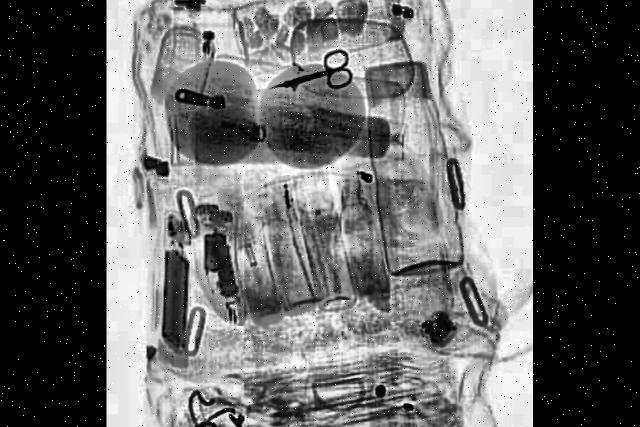Scissors: (269, 42, 354, 107)
